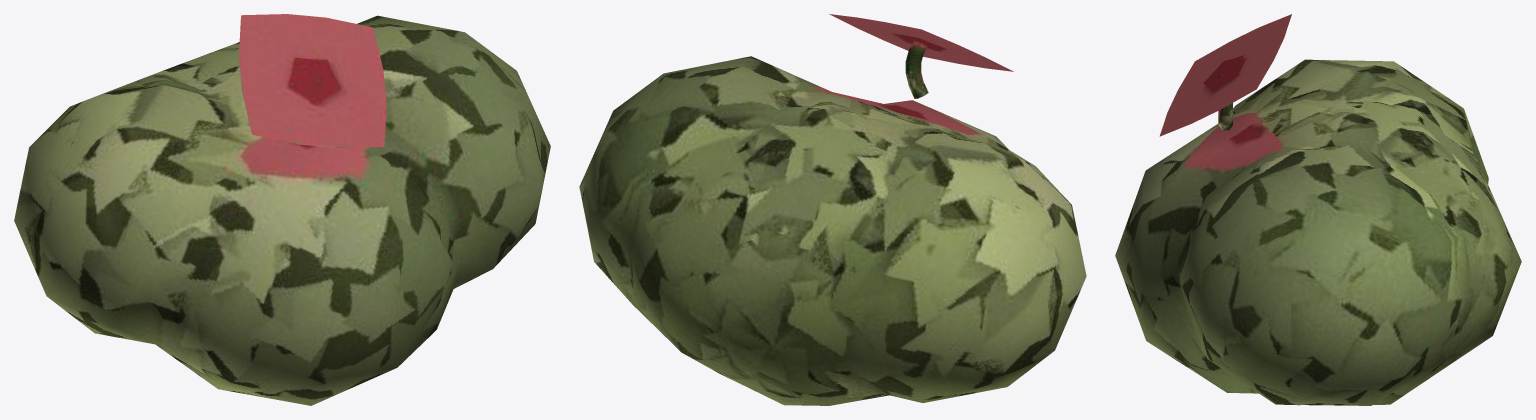
The model's file is flower_red_far.glb.
3 renders of one model, left to right at view 1: azimuth 30°, elevation 25°; view 2: azimuth 150°, elevation 25°; view 3: azimuth 270°, elevation 25°, orthographic. The views are drawn at different scales.
Parts seen in each view (by area): view 1: flower_red_lod1; view 2: flower_red_lod1; view 3: flower_red_lod1.
Part boxes in pixels (x1,y1,x2,y2): flower_red_lod1: [14, 14, 550, 405]; flower_red_lod1: [579, 14, 1086, 405]; flower_red_lod1: [1115, 14, 1521, 405].
Bounding box in the file's own units: 0.557 × 0.4225 × 0.4447.
Materials: 1 (1 with a texture image).
